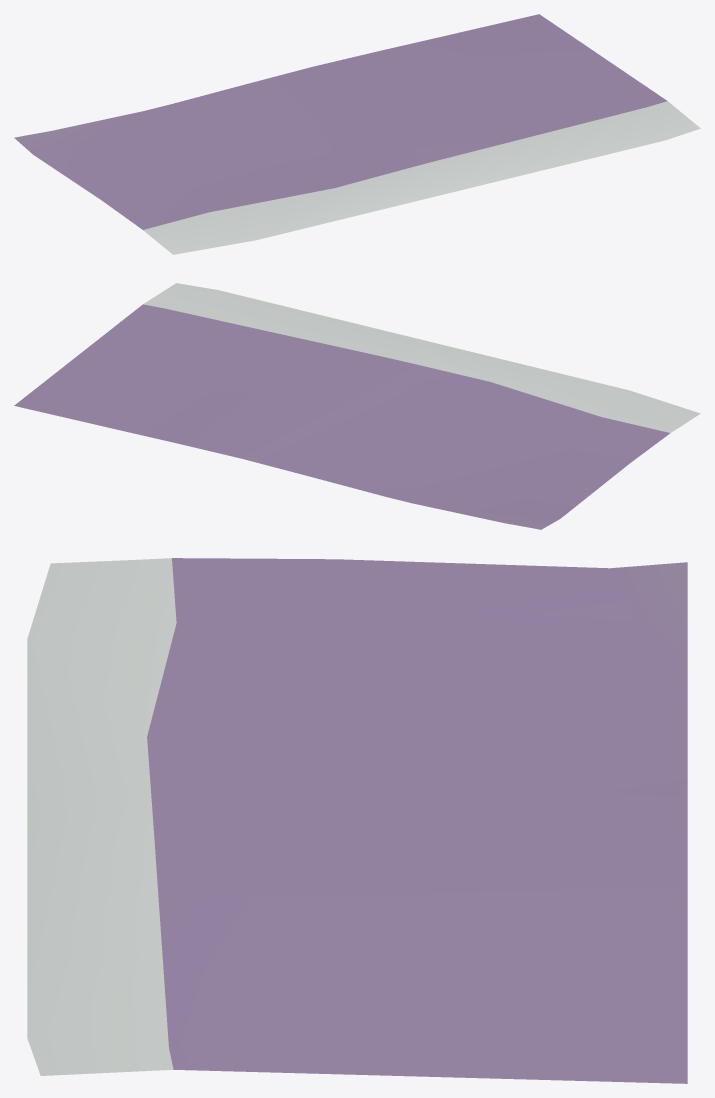
The picture shows the model from 3 angles, top to bottom: view 1: azimuth 30°, elevation 25°; view 2: azimuth 150°, elevation 25°; view 3: azimuth 270°, elevation 25°; orthographic projection. The views are drawn at different scales.
Visible parts, largest first — view 1: G:\FFXIV-MapTools\exports\m5f1\bg\ex4\02_mid_m5\fld\m5f1\bgp (×2); view 2: G:\FFXIV-MapTools\exports\m5f1\bg\ex4\02_mid_m5\fld\m5f1\bgp (×2); view 3: G:\FFXIV-MapTools\exports\m5f1\bg\ex4\02_mid_m5\fld\m5f1\bgp (×2).
Boxes of the visible parts, x1,y1,x2,y2 form: G:\FFXIV-MapTools\exports\m5f1\bg\ex4\02_mid_m5\fld\m5f1\bgp (×2): (14,14,700,254); G:\FFXIV-MapTools\exports\m5f1\bg\ex4\02_mid_m5\fld\m5f1\bgp (×2): (14,283,700,529); G:\FFXIV-MapTools\exports\m5f1\bg\ex4\02_mid_m5\fld\m5f1\bgp (×2): (27,558,687,1083).
Bounding box in the file's own units: 128 × 2.08 × 69.65.
